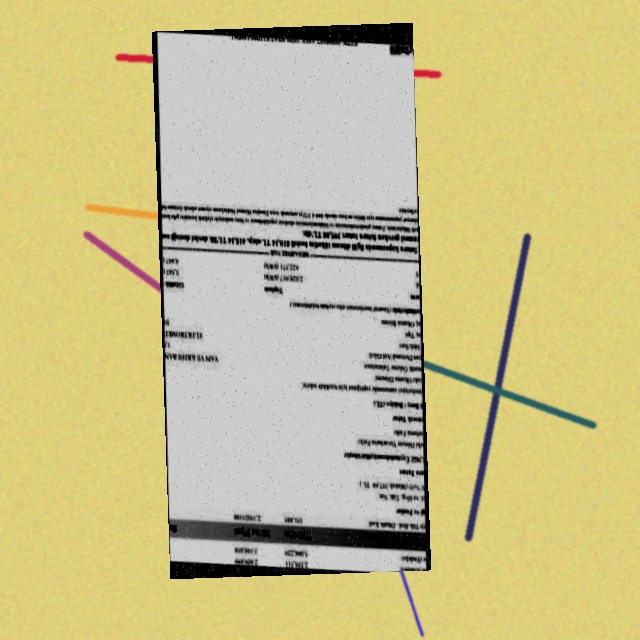electricity-bill: (152, 22, 431, 578)
